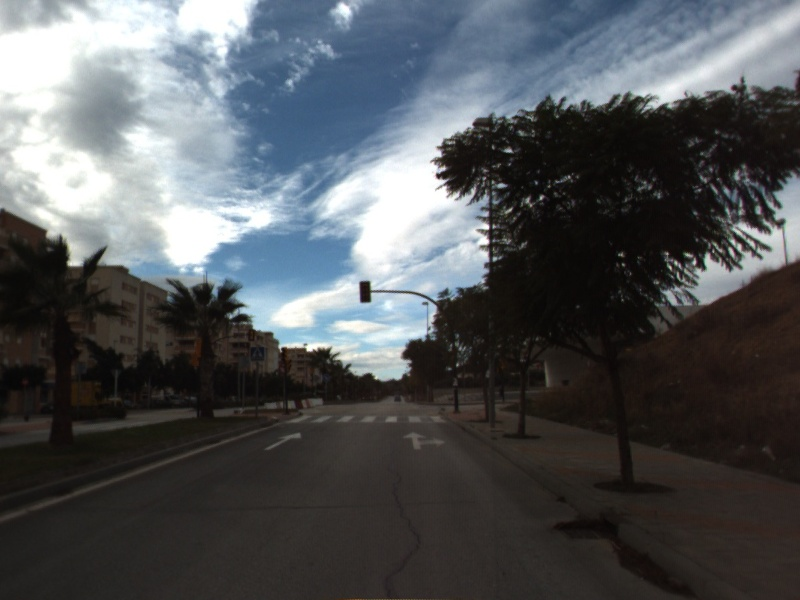STRAIGHT: (262, 430, 303, 452)
STRAIGHT_RIGHT: (401, 429, 447, 452)
